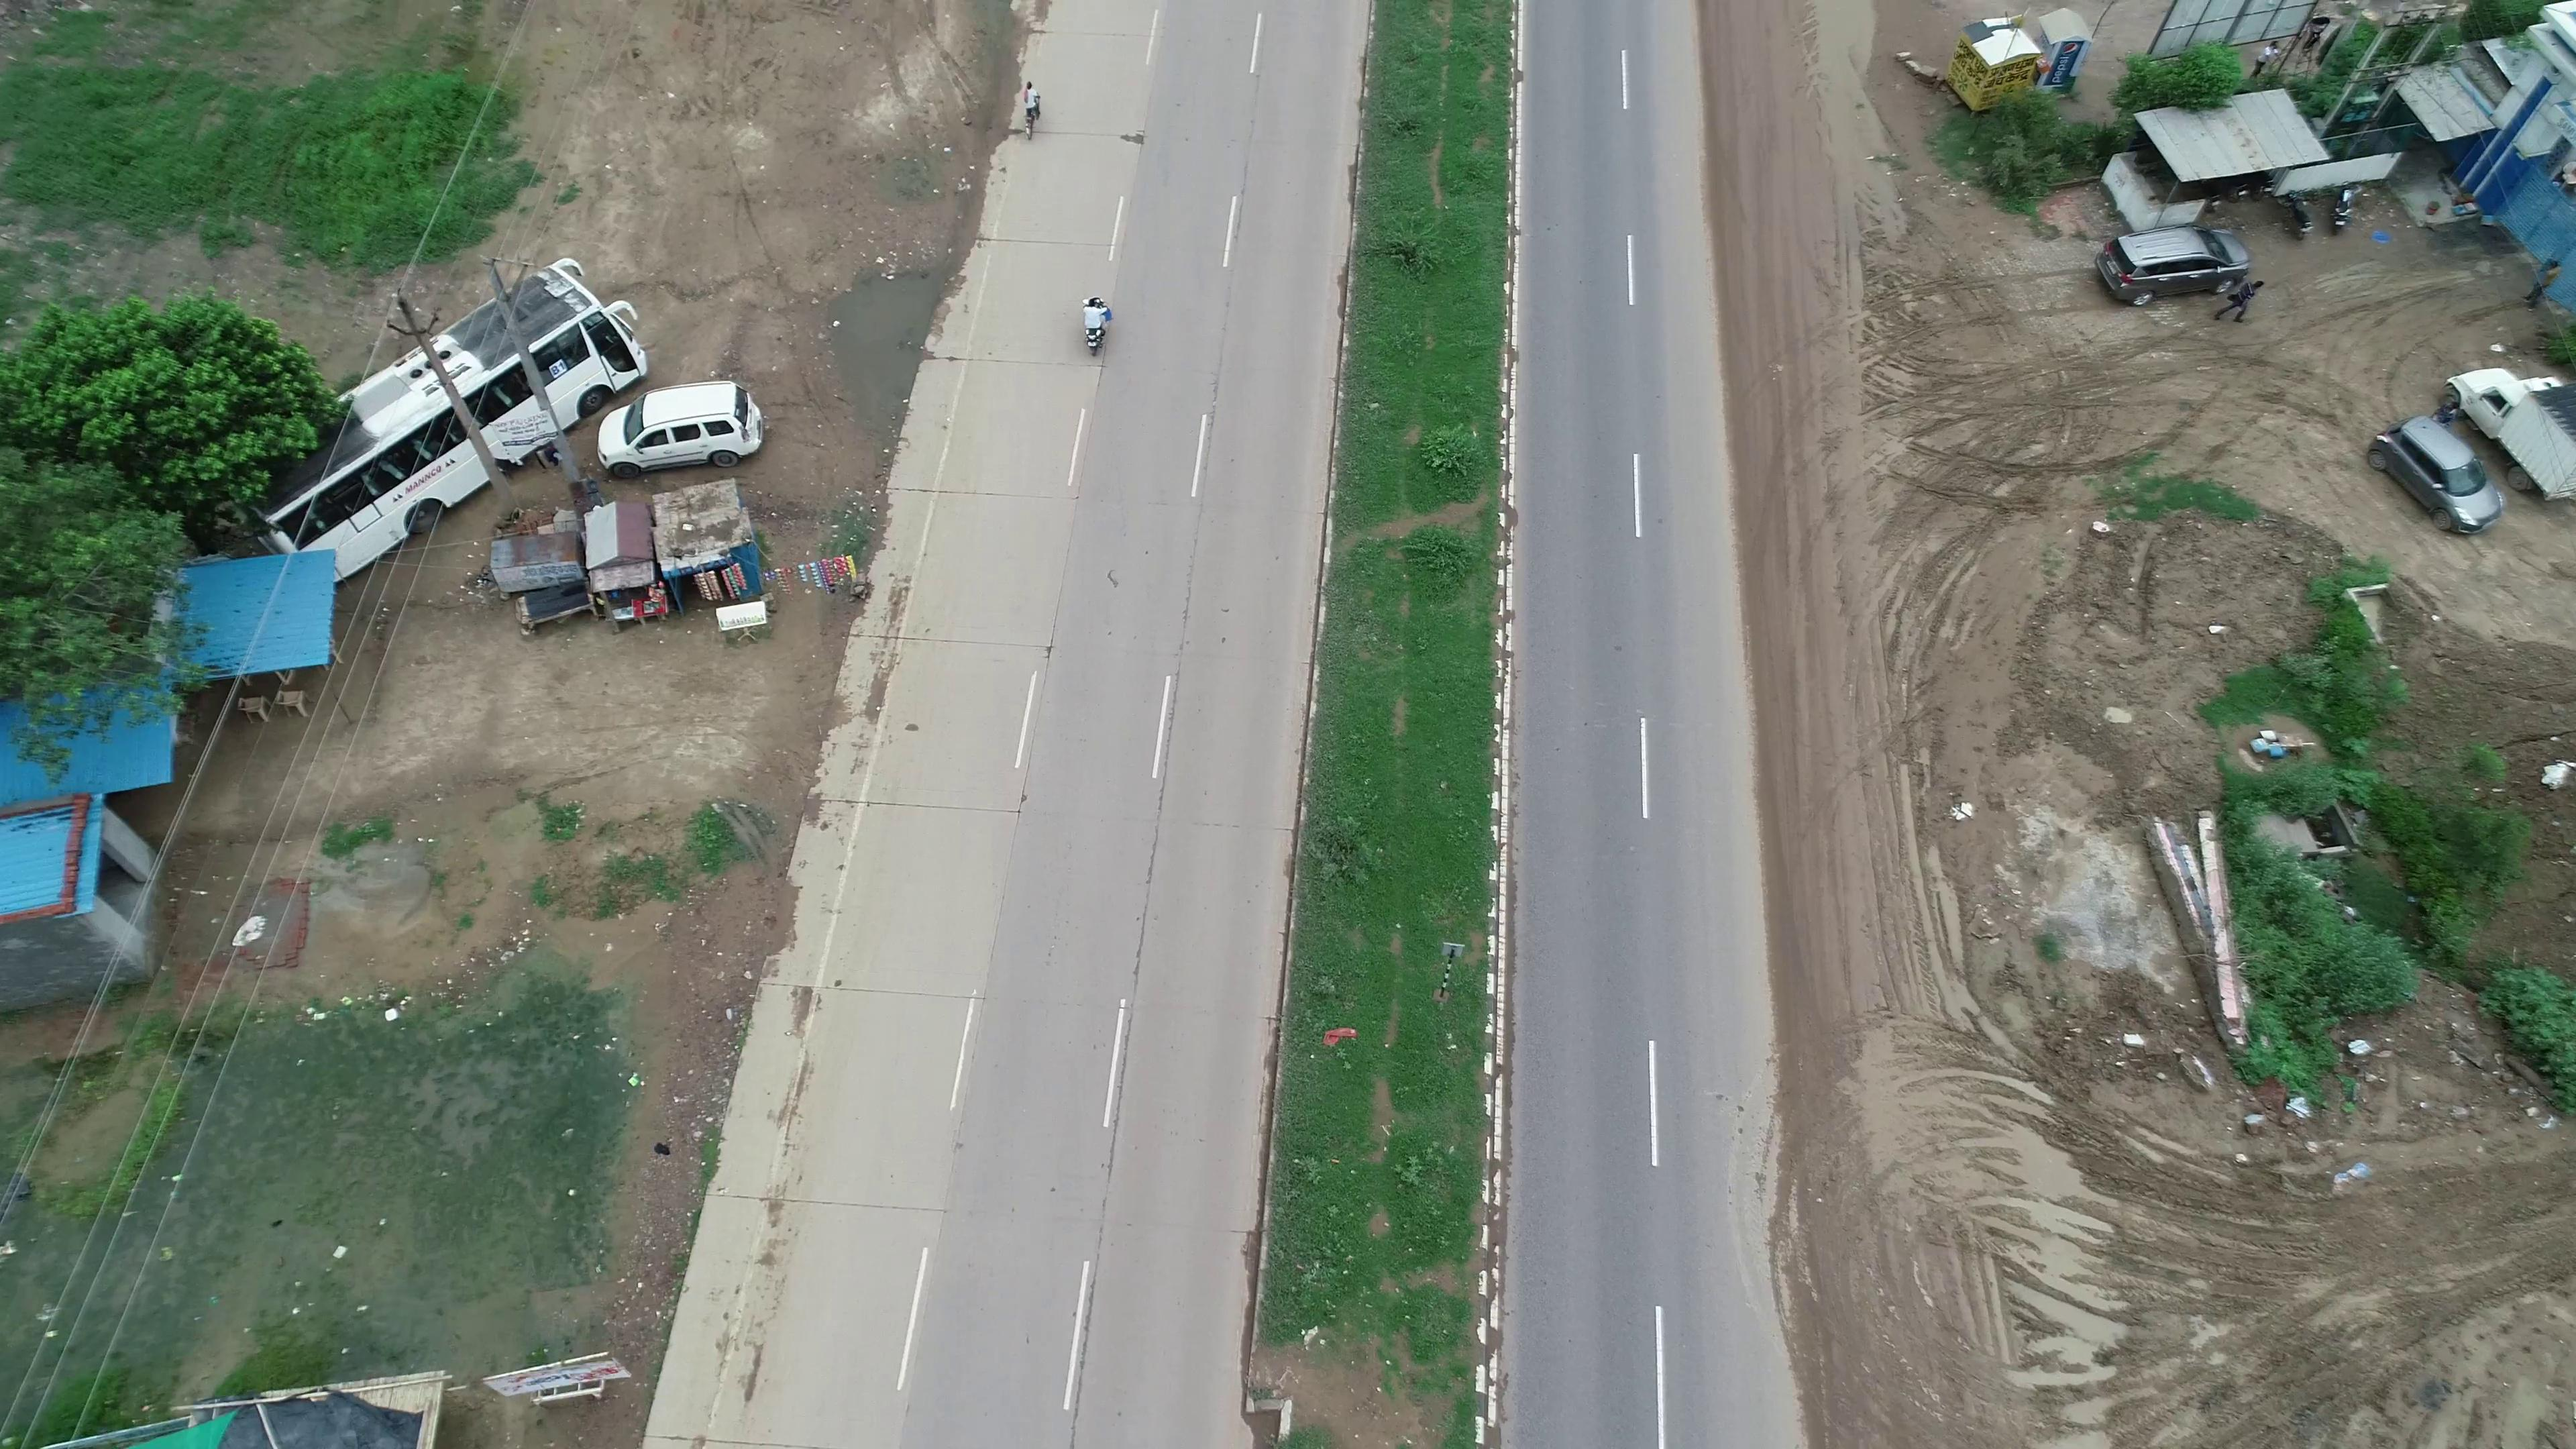Muddy_road: (1746, 683, 1999, 1426), (1730, 136, 1927, 686)
